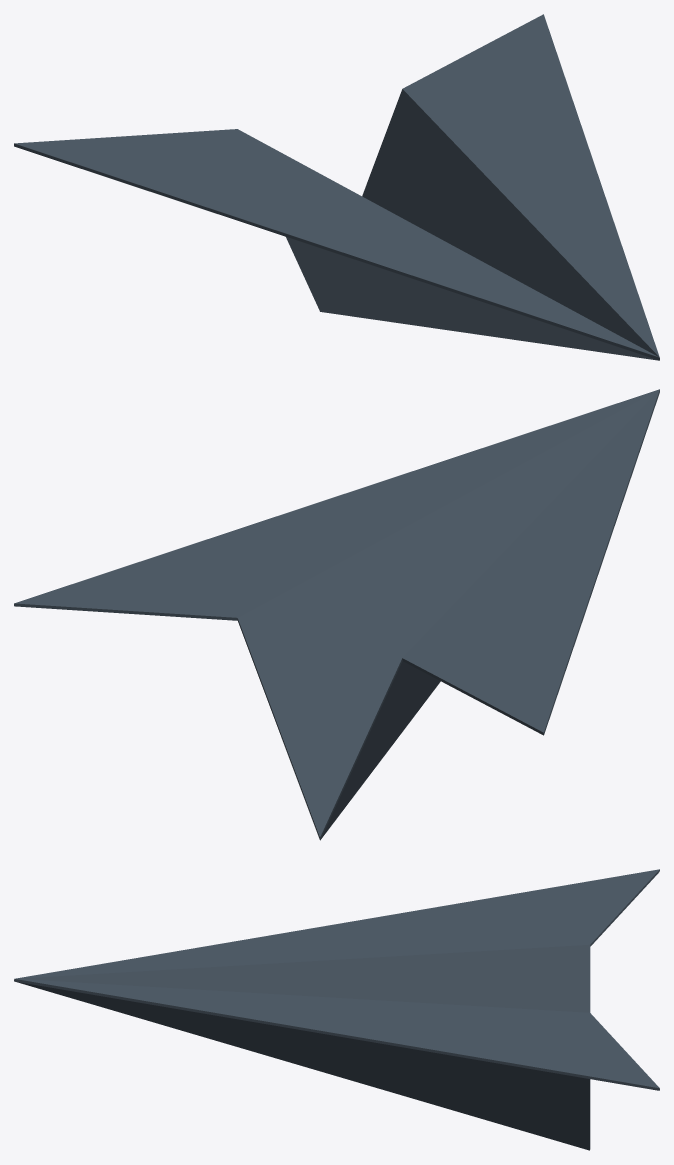
3 views of the same model, one above another, from view 1: azimuth 30°, elevation 25°; view 2: azimuth 150°, elevation 25°; view 3: azimuth 270°, elevation 25° (orthographic). The views are drawn at different scales.
Visible parts, largest first — view 1: plane; view 2: plane; view 3: plane.
Part boxes in pixels (x1=…): plane: x1=14, y1=14, x2=659, y2=360; plane: x1=14, y1=389, x2=659, y2=840; plane: x1=14, y1=869, x2=659, y2=1150.
Size of the model in its own units: 1.8 by 0.6587 by 2.24.
